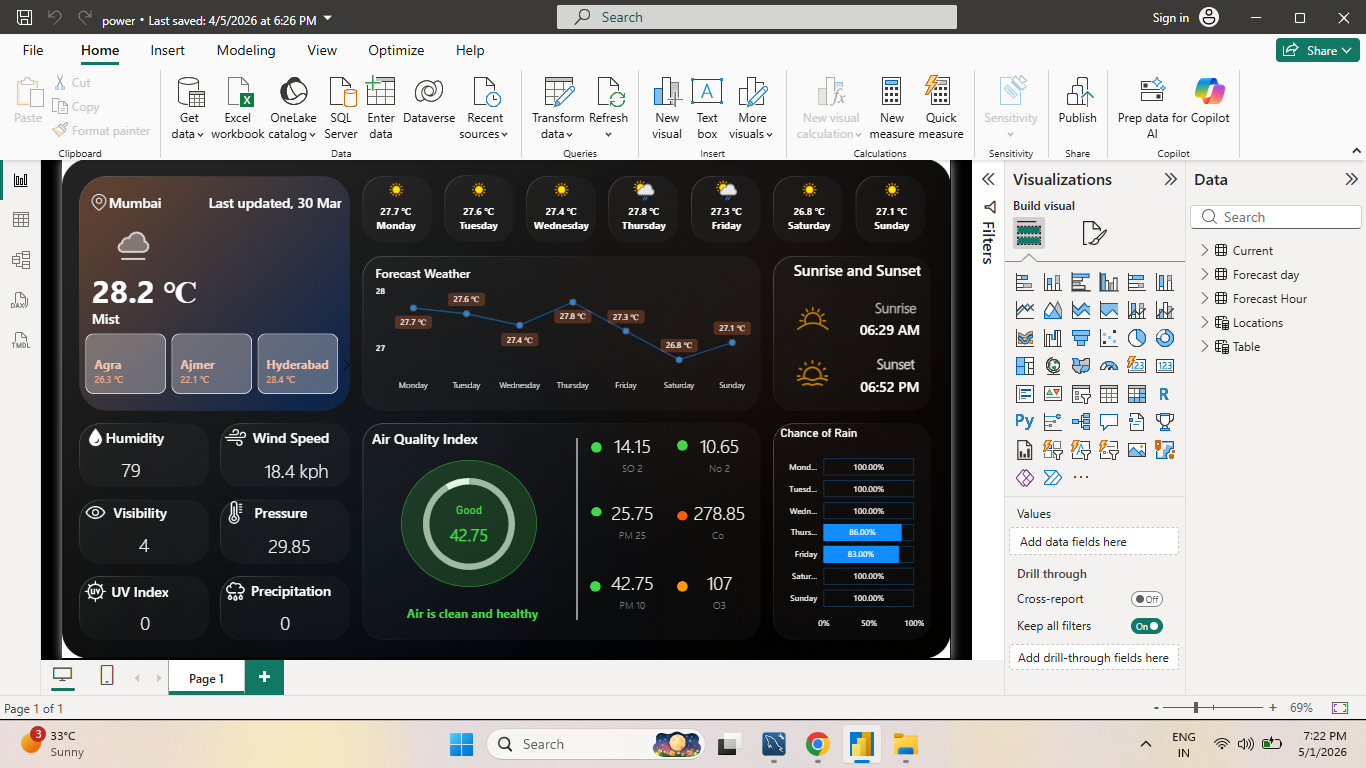

What the dashboard file says about the page in this screenshot:
{"tool":"powerbi","page":{"name":"Page 1","canvas":[1280,720],"ordinal":0},"visuals":[{"type":"advancedSlicerVisual","fields":{"Values":["Locations.location.name"]},"box":[8.6,244.8,416.2,97.9],"z":0},{"type":"shape","box":[43.2,129.6,175.7,115.2],"z":1000},{"type":"shape","box":[43.2,198,287.3,61],"z":2000},{"type":"shape","box":[67.7,30.2,100.8,61.9],"z":3000},{"type":"shape","box":[193,30.2,210.2,61.9],"z":4000},{"type":"image","box":[28.8,49,49,24.5],"z":5000},{"type":"cardVisual","fields":{"Data":["Min(Current.current.condition.icon)"]},"box":[53.6,0,99.7,169.7],"z":6000},{"type":"image","box":[28.8,385.9,38.9,27.4],"z":7000},{"type":"image","box":[210.2,383,79.2,33.1],"z":8000},{"type":"image","box":[8.6,491,79.2,33.1],"z":9000},{"type":"image","box":[210.2,491,79.2,33.1],"z":10000},{"type":"image","box":[8.6,604.8,79.2,33.1],"z":11000},{"type":"image","box":[210.2,604.8,79.2,33.1],"z":12000},{"type":"shape","box":[0,368.6,210.2,61.9],"z":13000},{"type":"shape","box":[7.2,590.4,210.2,61.9],"z":14000},{"type":"shape","box":[210.2,476.6,210.2,61.9],"z":15000},{"type":"shape","box":[7.2,476.6,210.2,61.9],"z":16000},{"type":"shape","box":[224.6,368.6,210.2,61.9],"z":17000},{"type":"shape","box":[224.6,589,210.2,61.9],"z":18000},{"type":"card","fields":{"Values":["Sum(Current.current.humidity)"]},"box":[67.7,430.6,63.4,34.6],"z":19000},{"type":"card","fields":{"Values":["Sum(Current.current.precip_in)"]},"box":[289.4,650.9,63.4,34.6],"z":20000},{"type":"card","fields":{"Values":["Sum(Current.current.uv)"]},"box":[87.8,650.9,63.4,34.6],"z":21000},{"type":"card","fields":{"Values":["Sum(Current.current.pressure_in)"]},"box":[288.8,538.2,75.8,34.7],"z":22000},{"type":"card","fields":{"Values":["Sum(Current.current.vis_km)"]},"box":[86.4,538.6,63.4,34.6],"z":23000},{"type":"card","fields":{"Values":["Table.wind speed"]},"box":[284.1,430.9,107.3,34.7],"z":24000},{"type":"advancedSlicerVisual","fields":{"Values":["Forecast day.day name"]},"box":[420.5,18.7,841,103.7],"z":25000},{"type":"lineChart","title":"Forecast Weather","fields":{"Y":["Sum(Forecast day.forecast.forecastday.day.avgtemp_c)"],"Category":["Forecast day.day name"]},"box":[446.4,151.2,554.4,191.5],"z":26000},{"type":"shape","box":[1040.1,126.3,211.5,61.6],"z":27000},{"type":"shape","box":[1145.8,219.4,91.5,48.9],"z":28000},{"type":"shape","box":[1145.8,307.8,91.5,34.7],"z":29000},{"type":"shape","box":[1155.3,268.3,91.5,48.9],"z":30000},{"type":"shape","box":[1155.3,187.8,91.5,48.9],"z":31000},{"type":"image","box":[1029.1,197.3,102.6,61.6],"z":32000},{"type":"image","box":[1041.7,284.1,78.9,45.8],"z":33000},{"type":"hundredPercentStackedBarChart","title":"Chance of Rain","fields":{"Y":["Sum(Forecast day.forecast.forecastday.day.daily_chance_of_rain)","Current.left value rain"],"Category":["Forecast day.day name"]},"box":[1029.6,383,217.4,302.4],"z":34000},{"type":"shape","box":[446.4,370.1,211.7,60.5],"z":35000},{"type":"card","fields":{"Values":["Sum(Current.current.air_quality.no2)"]},"box":[892.9,385.6,107.7,73.4],"z":36000},{"type":"card","fields":{"Values":["Sum(Current.current.air_quality.co)"]},"box":[892.9,482.3,107.7,73.4],"z":37000},{"type":"card","fields":{"Values":["Sum(Current.current.air_quality.pm10)"]},"box":[768,583.8,107.7,73.4],"z":38000},{"type":"card","fields":{"Values":["Sum(Current.current.air_quality.so2)"]},"box":[768,385.6,107.7,73.4],"z":39000},{"type":"card","fields":{"Values":["Sum(Current.current.air_quality.o3)"]},"box":[892.9,583.8,107.7,73.4],"z":40000},{"type":"card","fields":{"Values":["Sum(Current.current.air_quality.pm2_5)"]},"box":[768,482.3,107.7,73.4],"z":41000},{"type":"shape","box":[761.8,405.9,15.6,15.6],"z":42000},{"type":"shape","box":[760.2,605.7,15.6,15.6],"z":43000},{"type":"shape","box":[761.8,499.5,15.6,14],"z":44000},{"type":"shape","box":[885.1,605.7,15.6,15.6],"z":45000},{"type":"shape","box":[885.1,505.8,15.6,14],"z":46000},{"type":"shape","box":[885.1,402.7,15.6,15.6],"z":47000},{"type":"shape","box":[681.1,400.3,121,262.1],"z":48000},{"type":"card","fields":{"Values":["Sum(Current.current.air_quality.pm10)"]},"box":[532.8,493.9,106.6,73.4],"z":49000},{"type":"donutChart","fields":{"Y":["Table.left value pm10","Sum(Current.current.air_quality.pm10)"]},"box":[478.1,436.3,216,175.7],"z":50000},{"type":"shape","box":[488.2,432,195.8,182.9],"z":51000},{"type":"shape","box":[485.3,622.1,211.7,60.5],"z":52000}]}

Visuals, with their boxes on the page's 1280x720 design canvas (x1, y1, x2, y2). These are canvas units, not pixel positions in the 1366x768 screenshot, which may show the page scaled, cropped or inside an application window:
advancedSlicerVisual - Locations.location.name: box=[9, 245, 425, 343]
shape: box=[43, 130, 219, 245]
shape: box=[43, 198, 330, 259]
shape: box=[68, 30, 168, 92]
shape: box=[193, 30, 403, 92]
image: box=[29, 49, 78, 74]
cardVisual - Min(Current.current.condition.icon): box=[54, 0, 153, 170]
image: box=[29, 386, 68, 413]
image: box=[210, 383, 289, 416]
image: box=[9, 491, 88, 524]
image: box=[210, 491, 289, 524]
image: box=[9, 605, 88, 638]
image: box=[210, 605, 289, 638]
shape: box=[0, 369, 210, 430]
shape: box=[7, 590, 217, 652]
shape: box=[210, 477, 420, 538]
shape: box=[7, 477, 217, 538]
shape: box=[225, 369, 435, 430]
shape: box=[225, 589, 435, 651]
card - Sum(Current.current.humidity): box=[68, 431, 131, 465]
card - Sum(Current.current.precip_in): box=[289, 651, 353, 686]
card - Sum(Current.current.uv): box=[88, 651, 151, 686]
card - Sum(Current.current.pressure_in): box=[289, 538, 365, 573]
card - Sum(Current.current.vis_km): box=[86, 539, 150, 573]
card - Table.wind speed: box=[284, 431, 391, 466]
advancedSlicerVisual - Forecast day.day name: box=[420, 19, 1262, 122]
"Forecast Weather" lineChart: box=[446, 151, 1001, 343]
shape: box=[1040, 126, 1252, 188]
shape: box=[1146, 219, 1237, 268]
shape: box=[1146, 308, 1237, 342]
shape: box=[1155, 268, 1247, 317]
shape: box=[1155, 188, 1247, 237]
image: box=[1029, 197, 1132, 259]
image: box=[1042, 284, 1121, 330]
"Chance of Rain" hundredPercentStackedBarChart: box=[1030, 383, 1247, 685]
shape: box=[446, 370, 658, 431]
card - Sum(Current.current.air_quality.no2): box=[893, 386, 1001, 459]
card - Sum(Current.current.air_quality.co): box=[893, 482, 1001, 556]
card - Sum(Current.current.air_quality.pm10): box=[768, 584, 876, 657]
card - Sum(Current.current.air_quality.so2): box=[768, 386, 876, 459]
card - Sum(Current.current.air_quality.o3): box=[893, 584, 1001, 657]
card - Sum(Current.current.air_quality.pm2_5): box=[768, 482, 876, 556]
shape: box=[762, 406, 777, 422]
shape: box=[760, 606, 776, 621]
shape: box=[762, 500, 777, 514]
shape: box=[885, 606, 901, 621]
shape: box=[885, 506, 901, 520]
shape: box=[885, 403, 901, 418]
shape: box=[681, 400, 802, 662]
card - Sum(Current.current.air_quality.pm10): box=[533, 494, 639, 567]
donutChart - Table.left value pm10 x Sum(Current.current.air_quality.pm10): box=[478, 436, 694, 612]
shape: box=[488, 432, 684, 615]
shape: box=[485, 622, 697, 683]
